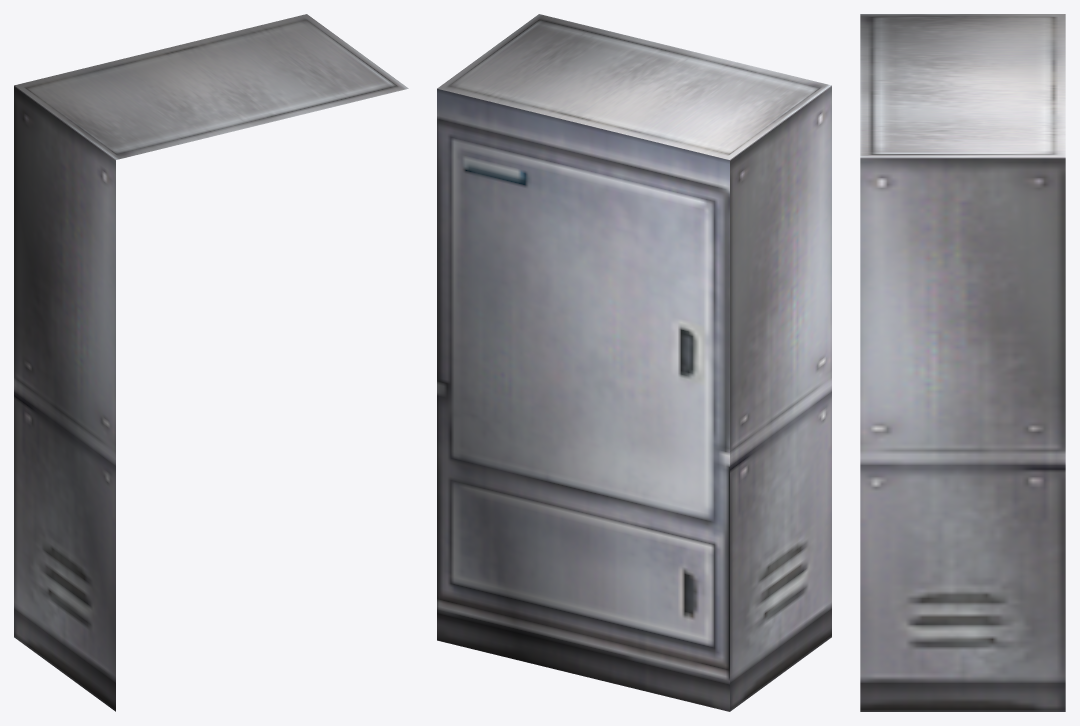
Rendered from a_SCicebox01.glb.
3 views of the same model, side by side, from view 1: azimuth 30°, elevation 25°; view 2: azimuth 150°, elevation 25°; view 3: azimuth 270°, elevation 25° (orthographic).
Parts seen in each view (by area): view 1: a_SCicebox01; view 2: a_SCicebox01; view 3: a_SCicebox01.
Boxes of the visible parts, bbox=[...] form: a_SCicebox01: bbox=[14, 14, 408, 711]; a_SCicebox01: bbox=[437, 14, 831, 711]; a_SCicebox01: bbox=[860, 14, 1065, 711].
Bounding box in the file's own units: 0.9995 × 1.8 × 0.6034.
1 material, 1 textured.
